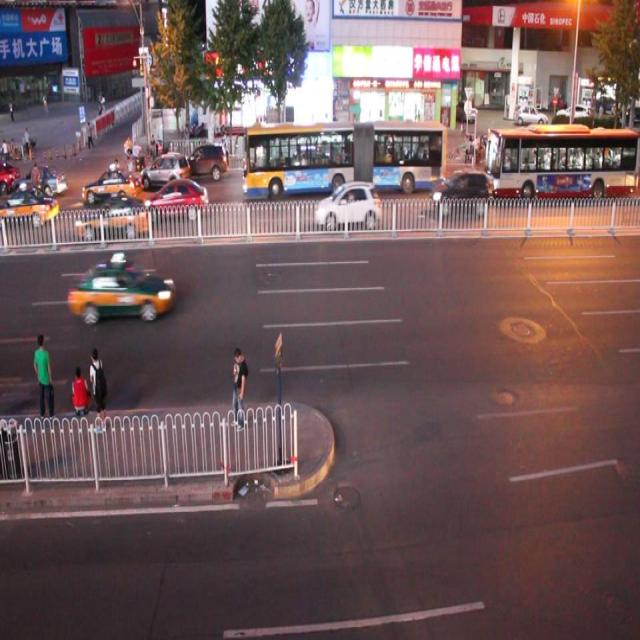car: (68, 260, 174, 323), (75, 196, 150, 239), (316, 180, 380, 227), (431, 167, 490, 215), (145, 180, 208, 218), (1, 187, 58, 227), (82, 168, 141, 203), (140, 150, 189, 191), (13, 165, 67, 200), (182, 143, 229, 179), (284, 145, 330, 177), (1, 159, 19, 197)
van: (241, 119, 446, 194), (483, 122, 640, 200)
